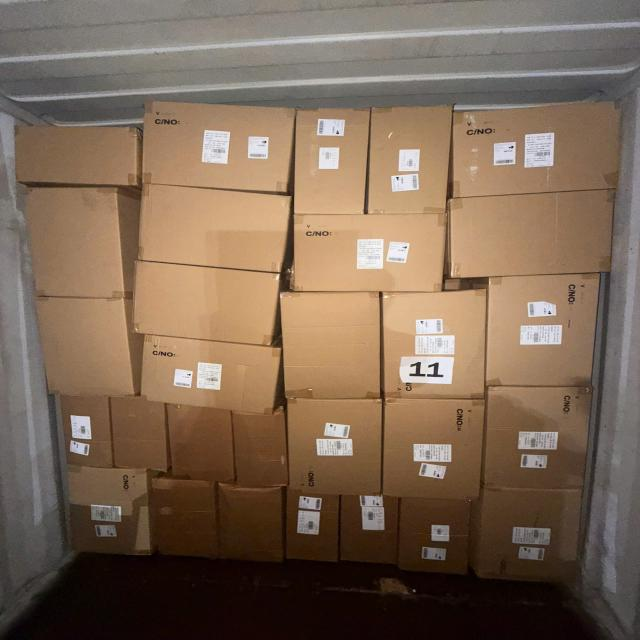Carton: (459, 104, 630, 200), (134, 181, 295, 275), (456, 193, 618, 283), (140, 102, 289, 194), (294, 212, 451, 299), (487, 273, 603, 390), (132, 258, 277, 346), (382, 290, 488, 404), (472, 487, 588, 589), (485, 381, 594, 489), (29, 182, 126, 299), (278, 296, 380, 407), (136, 339, 277, 419), (25, 298, 129, 404), (385, 396, 485, 499), (288, 396, 385, 498), (372, 104, 454, 213), (8, 120, 134, 188), (296, 106, 370, 216), (66, 467, 152, 559), (399, 495, 473, 577), (151, 478, 221, 564), (216, 486, 284, 568), (170, 404, 238, 484), (112, 393, 170, 470), (234, 411, 290, 490), (284, 486, 338, 565), (56, 391, 112, 467), (339, 494, 398, 566)
